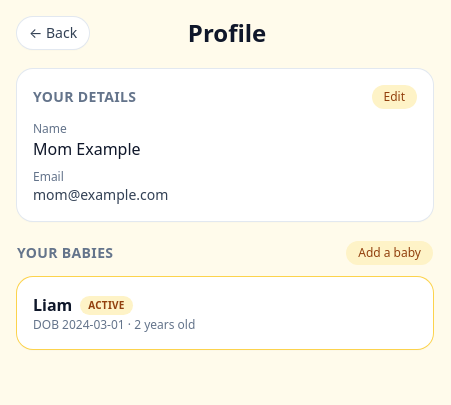
ProfilePage — US2 edit caregiver › saves a new display name and exits edit mode
Check: the heading "Liam" is shown, box [33,293,72,317]
Click the button "Edit".
click(394, 97)  # box [372,85,417,109]
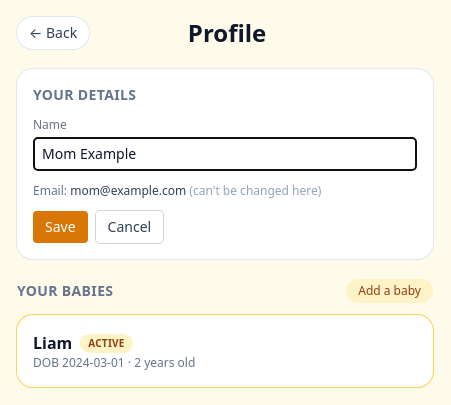
Replace the text in the field showing "Mom Example" with "Renamed Mom" at (225, 154), box [33,137,417,171]
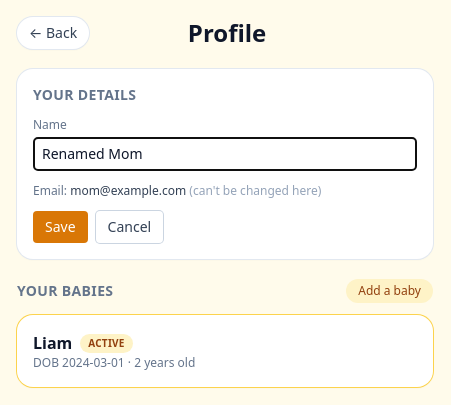
Click the button "Save".
click(60, 227)  # box [33,211,88,243]
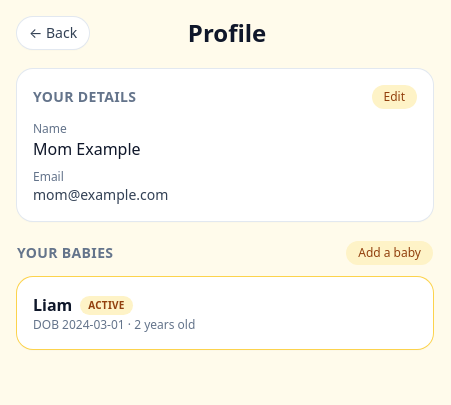
Check: the button "Save" is gone
